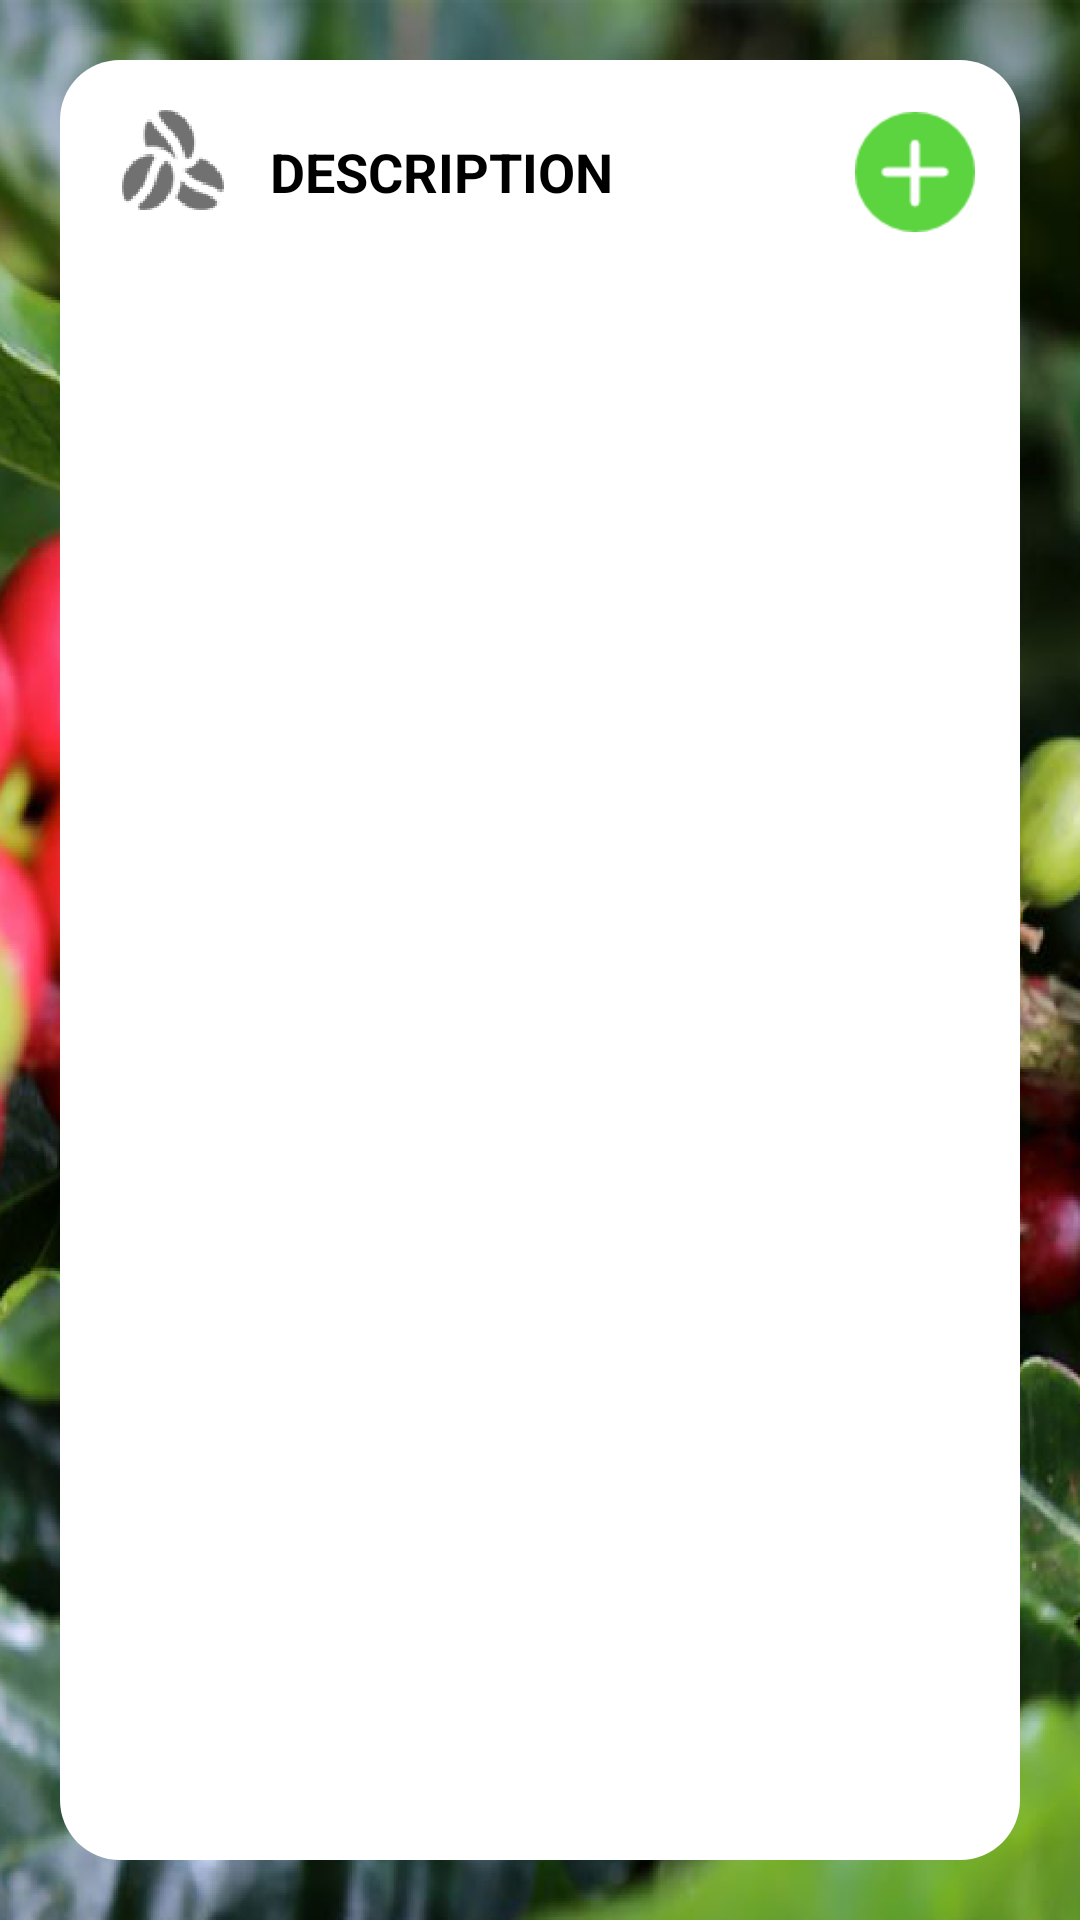

Where icons sit on this 1080px x 1920px app screen, as bbox=[x1, y1, x2, y2]:
coffee beans: bbox=[122, 110, 224, 210]
plus: bbox=[855, 112, 975, 232]
